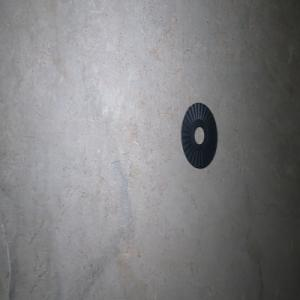Washer: (181, 102, 217, 168)
